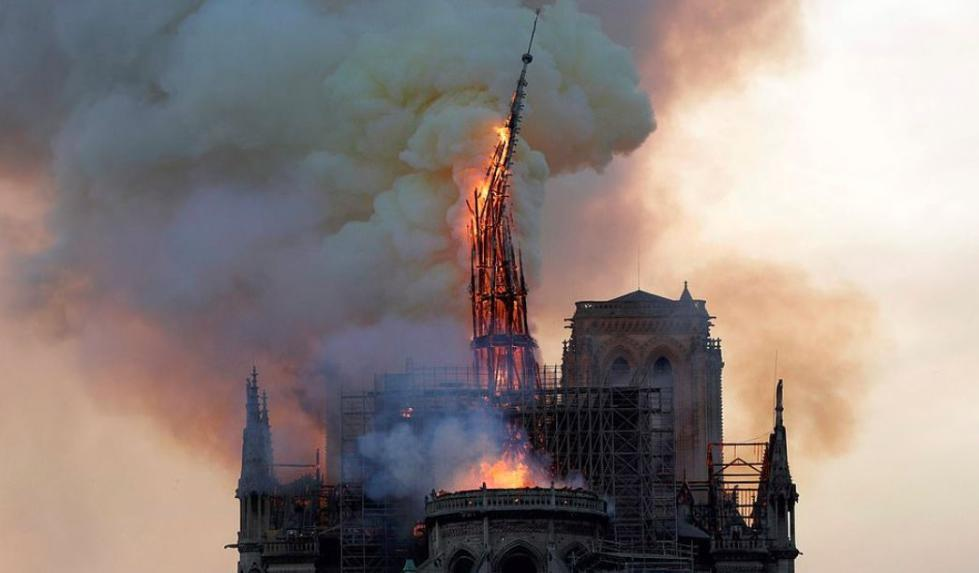fire: (451, 94, 561, 496)
